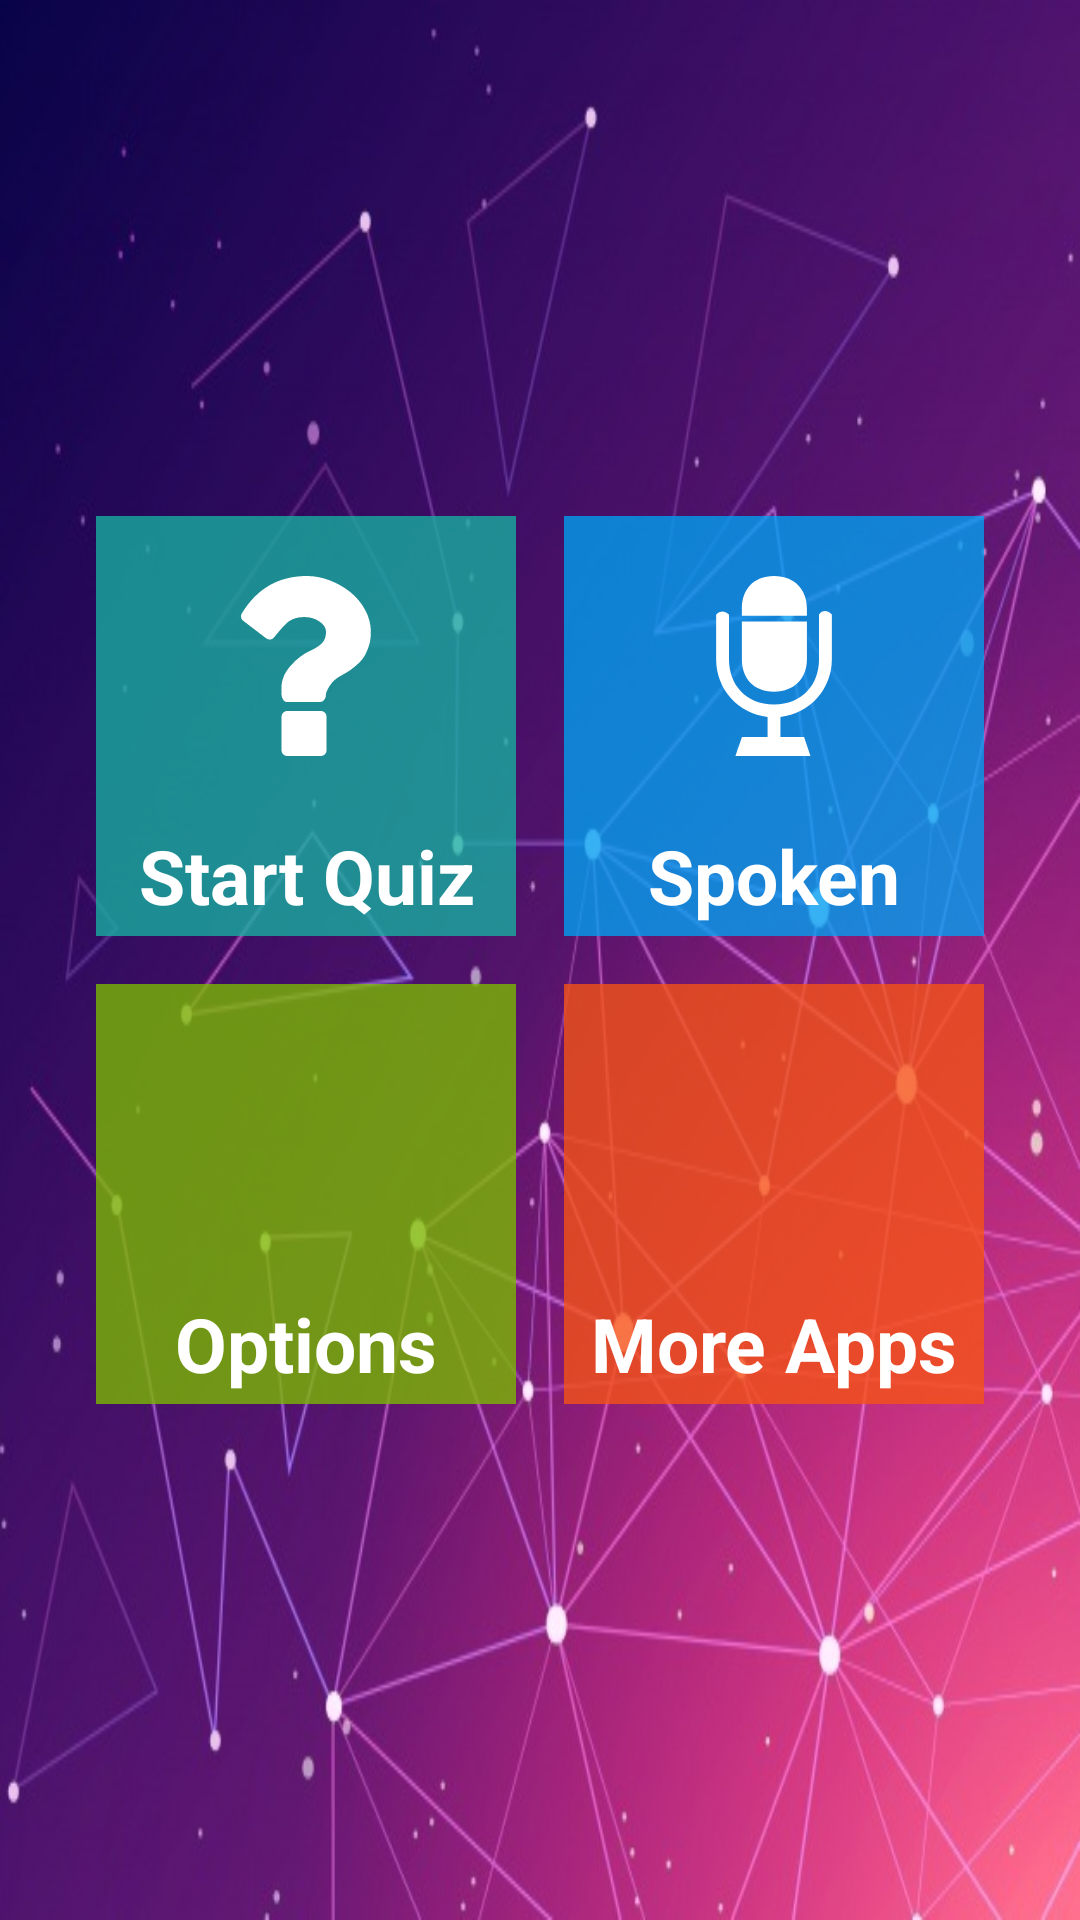

Icons on this 1080*1920 Android screen, each with its box as [x1, y1, x2, y2]:
que: [241, 576, 371, 756]
vintage mic: [716, 576, 839, 756]
